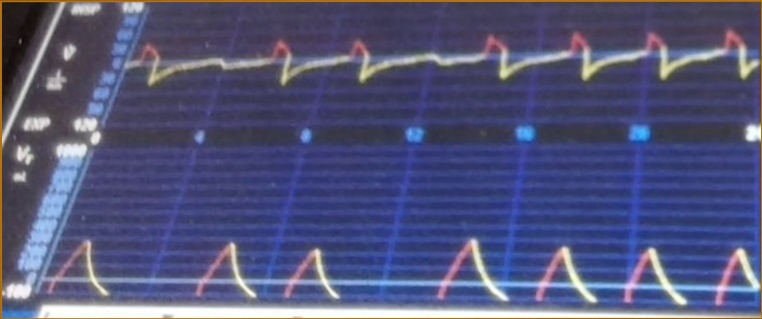Ineffective_effort Flow: (131, 14, 762, 122)
Ineffective_effort Volume: (49, 230, 758, 305)
